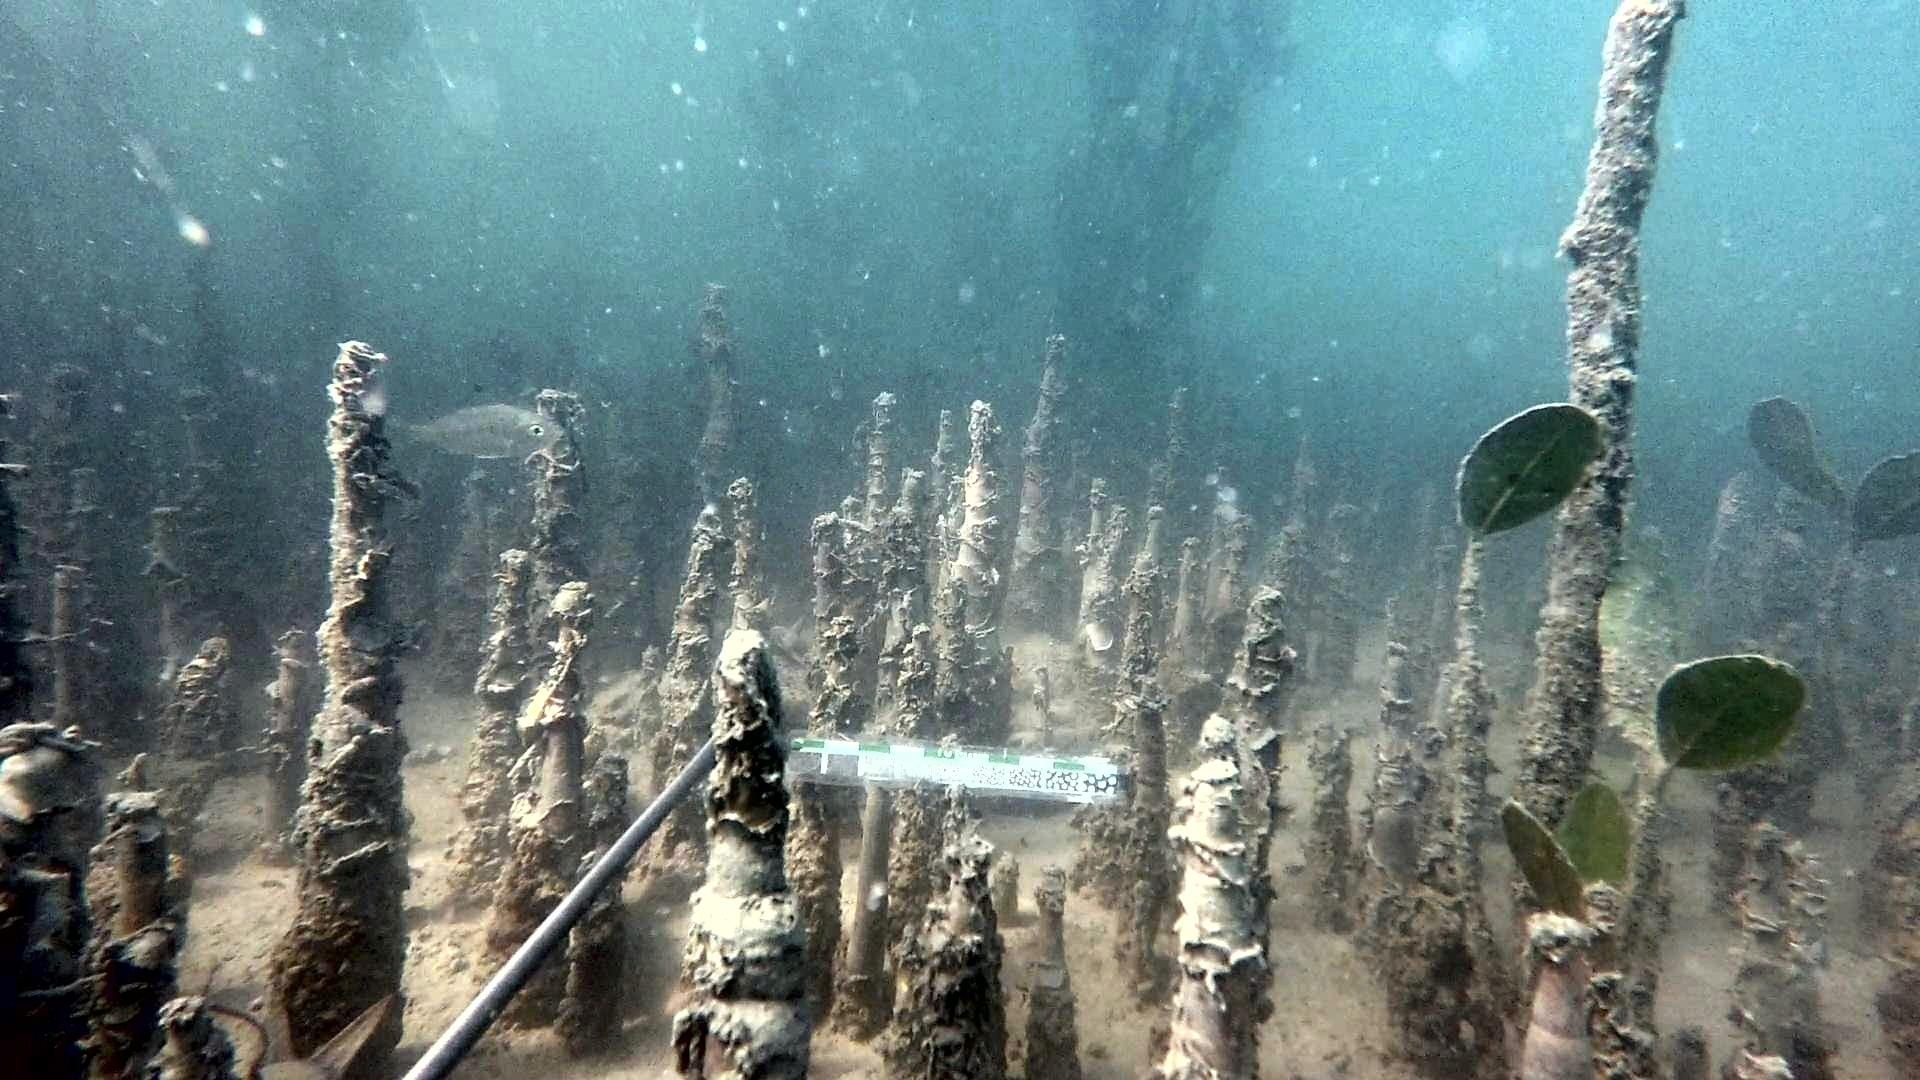gerres: (401, 382, 567, 463)
